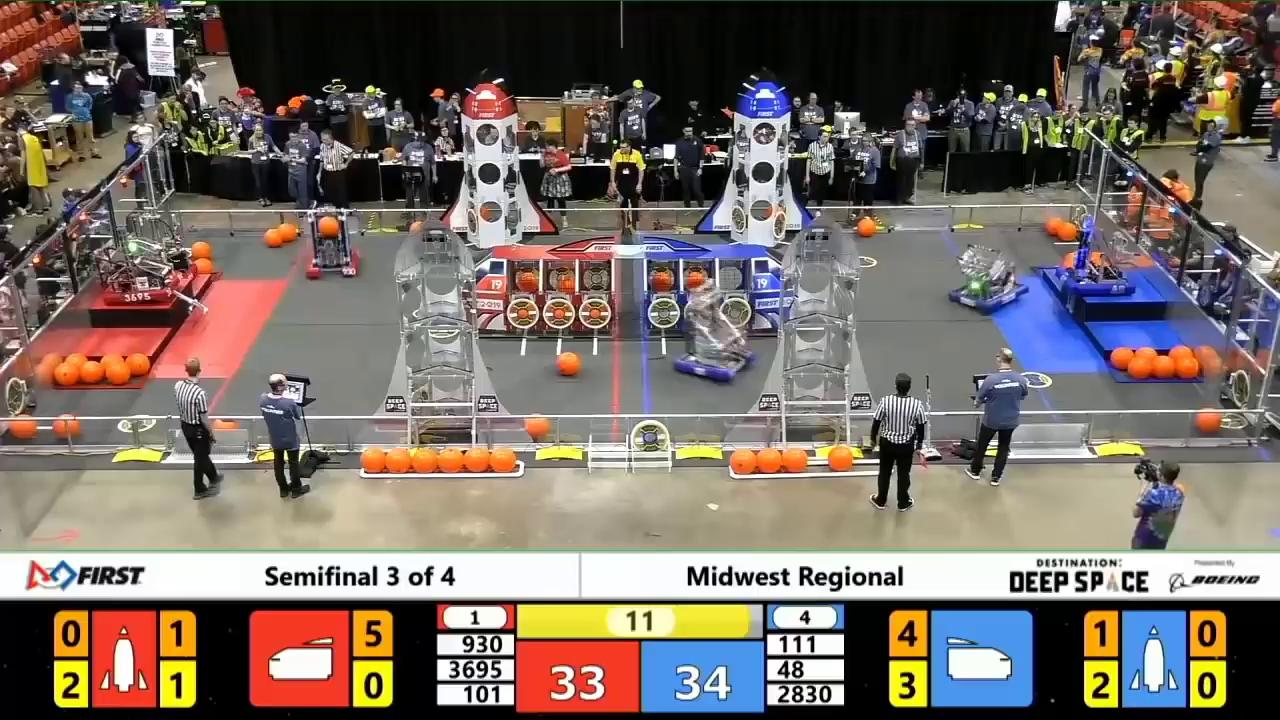robot: (102, 210, 196, 304), (671, 287, 752, 383), (1054, 210, 1137, 297), (946, 244, 1029, 317), (305, 206, 360, 280)
